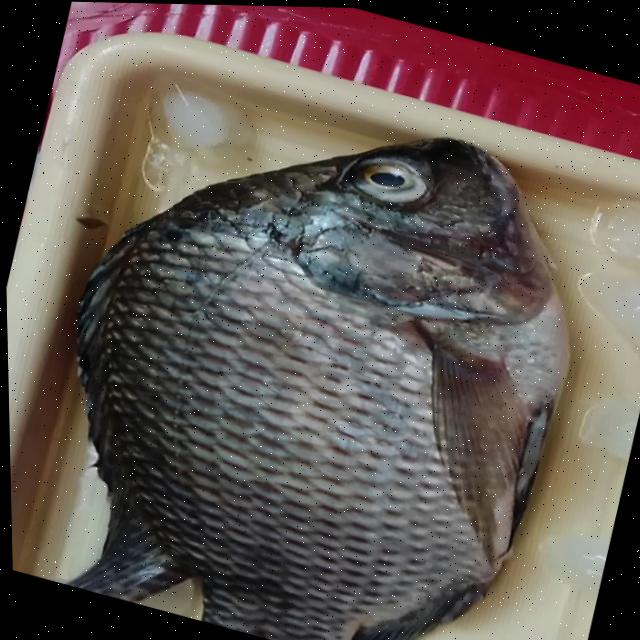Fresh: (3, 156, 613, 640), (304, 133, 440, 225)
